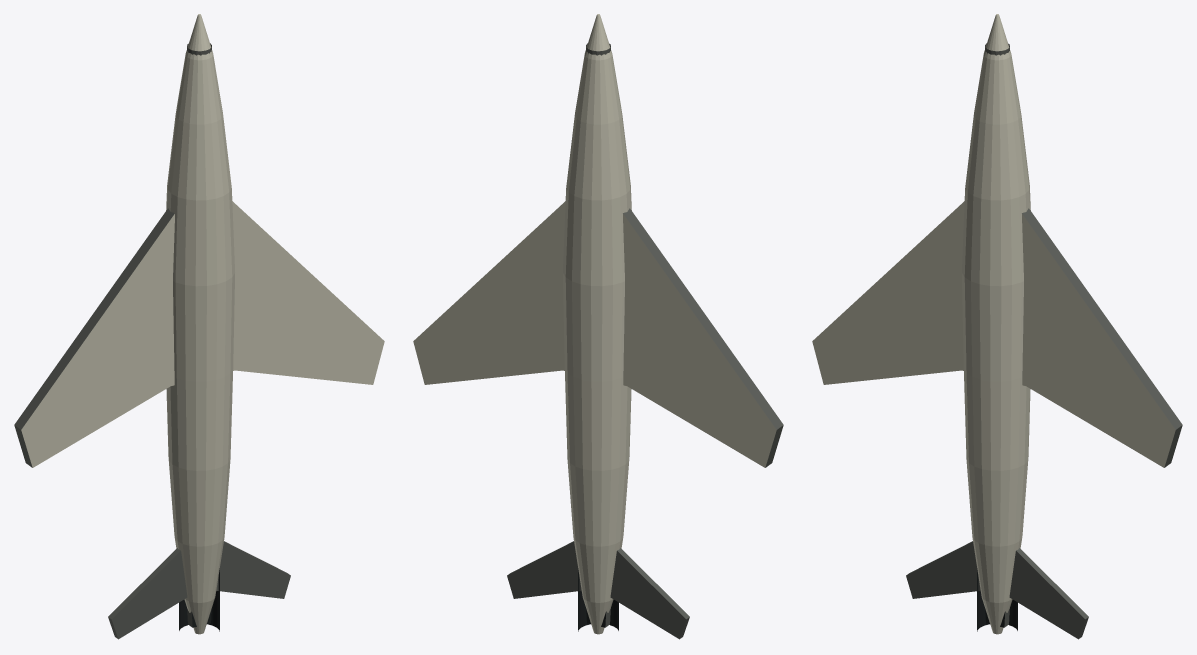
The model's file is geran.obj.
3 renders of one model, left to right at view 1: azimuth 30°, elevation 25°; view 2: azimuth 150°, elevation 25°; view 3: azimuth 330°, elevation 25°, orthographic.
Parts seen in each view (by area): view 1: MainWing, Fuselage, TailPlane, EngineShroud; view 2: MainWing, Fuselage, TailPlane, EngineShroud; view 3: MainWing, Fuselage, TailPlane, EngineShroud.
Boxes of the visible parts, box(x1,y1,x2,y2) form: MainWing: box(14, 201, 384, 467); Fuselage: box(166, 14, 234, 634); TailPlane: box(108, 541, 290, 639); EngineShroud: box(179, 568, 219, 631); MainWing: box(413, 201, 783, 467); Fuselage: box(563, 14, 631, 634); TailPlane: box(507, 541, 689, 639); EngineShroud: box(578, 568, 618, 631); MainWing: box(812, 201, 1182, 467); Fuselage: box(962, 14, 1030, 634); TailPlane: box(906, 541, 1088, 639); EngineShroud: box(977, 568, 1017, 631).
Bounding box in the file's own units: 3.16 × 5.13 × 0.54.
